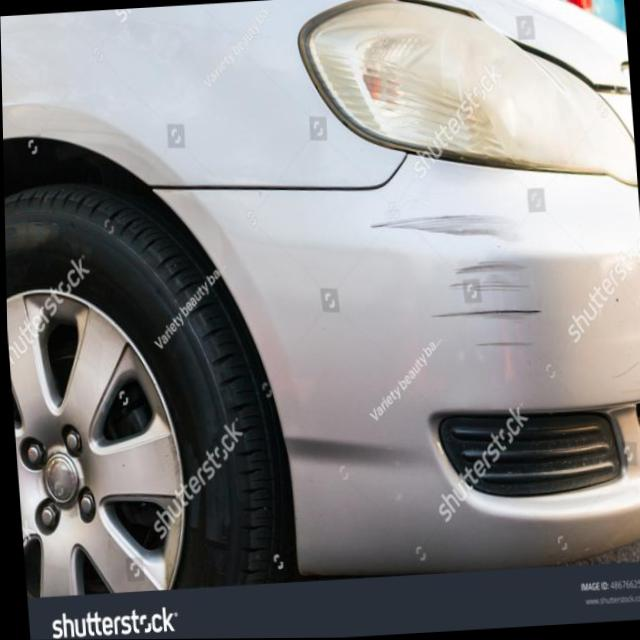Scratch: (369, 193, 565, 380)
